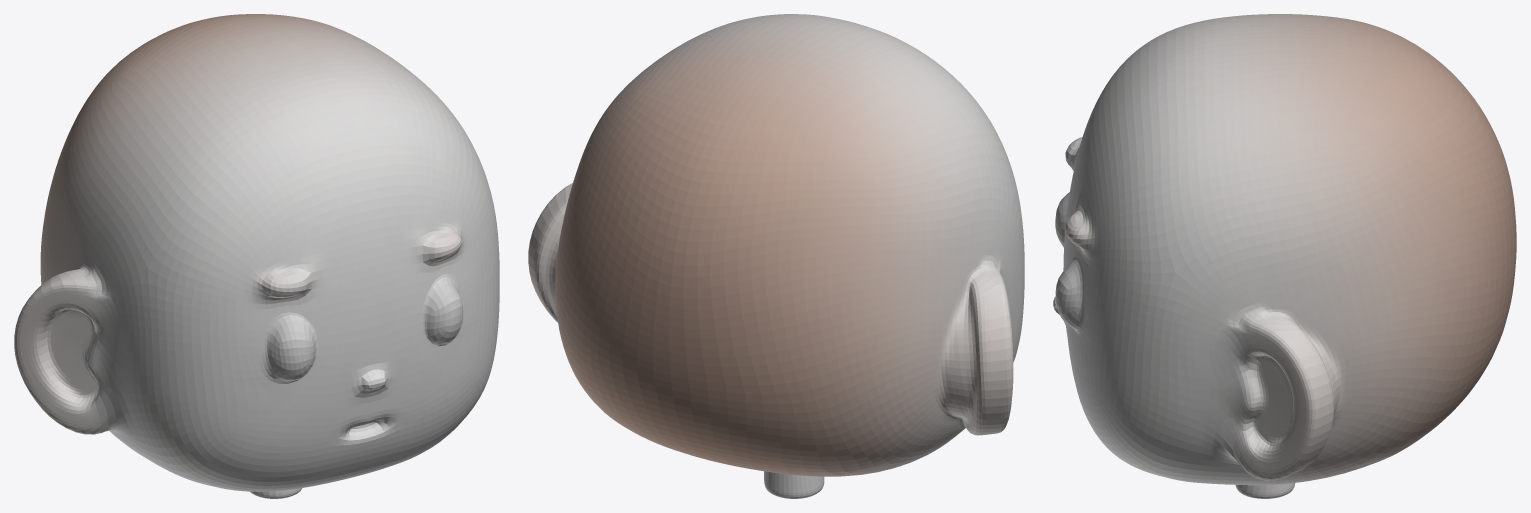
The model's file is cabeza2.gltf.
3 views of the same model, side by side, from view 1: azimuth 30°, elevation 25°; view 2: azimuth 150°, elevation 25°; view 3: azimuth 270°, elevation 25° (orthographic). The views are drawn at different scales.
Parts seen in each view (by area): view 1: cara.001; view 2: cara.001; view 3: cara.001.
Part boxes in pixels (x1,y1,x2,y2): cara.001: (14, 14, 499, 498); cara.001: (528, 14, 1024, 498); cara.001: (1053, 14, 1516, 498).
Bounding box in the file's own units: 3.73 × 3.32 × 3.09.
